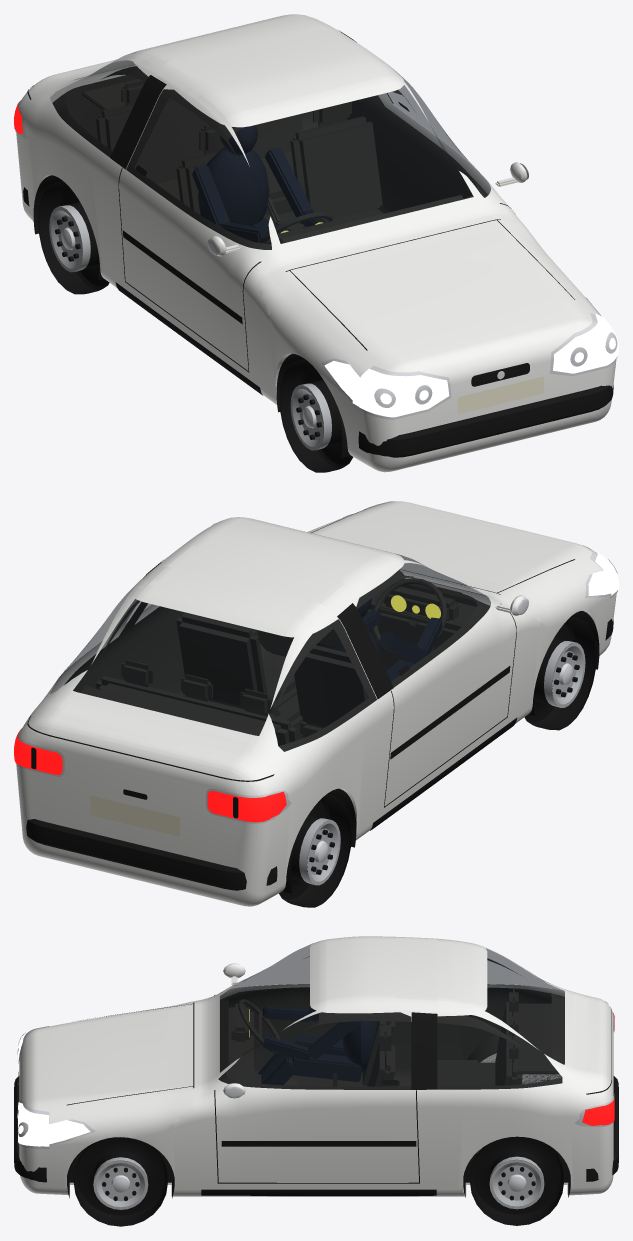
Rendered from corsa.glb.
3 views of the same model, one above another, from view 1: azimuth 30°, elevation 25°; view 2: azimuth 150°, elevation 25°; view 3: azimuth 270°, elevation 25° (orthographic). The views are drawn at different scales.
Visible parts, largest first — view 1: body, glass, interior, trim, lights, wheel_fr, wheel_rr, mirrors; view 2: body, glass, interior, trim, wheel_rr, wheel_fr, lights; view 3: body, glass, interior, trim, wheel_fl, wheel_rl, lights, mirrors.
Part boxes in pixels (bbox=[...]): body: bbox=[16, 14, 616, 472]; glass: bbox=[50, 50, 490, 249]; interior: bbox=[52, 66, 487, 249]; trim: bbox=[15, 30, 617, 458]; lights: bbox=[14, 102, 618, 417]; wheel_fr: bbox=[279, 359, 353, 472]; wheel_rr: bbox=[38, 181, 109, 294]; mirrors: bbox=[207, 162, 528, 256]; body: bbox=[16, 501, 616, 906]; glass: bbox=[50, 553, 490, 751]; interior: bbox=[64, 570, 490, 751]; trim: bbox=[15, 501, 617, 893]; wheel_rr: bbox=[279, 794, 351, 907]; wheel_fr: bbox=[524, 616, 596, 730]; lights: bbox=[14, 501, 618, 822]; body: bbox=[19, 936, 613, 1196]; glass: bbox=[219, 943, 564, 1089]; interior: bbox=[218, 956, 564, 1153]; trim: bbox=[14, 995, 618, 1198]; wheel_fl: bbox=[73, 1137, 167, 1226]; wheel_rl: bbox=[470, 1136, 563, 1225]; lights: bbox=[17, 1013, 614, 1146]; mirrors: bbox=[223, 963, 245, 1098].
Bounding box in the file's own units: 1.81 × 1.42 × 3.73.
